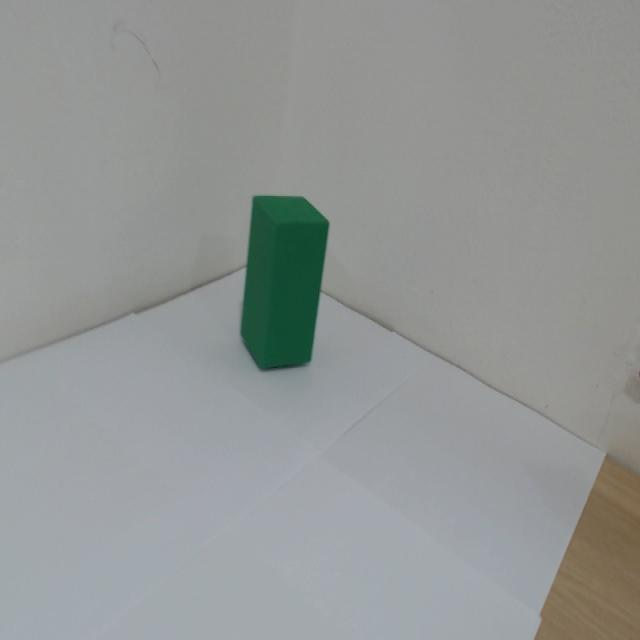cube: (224, 99, 351, 460)
